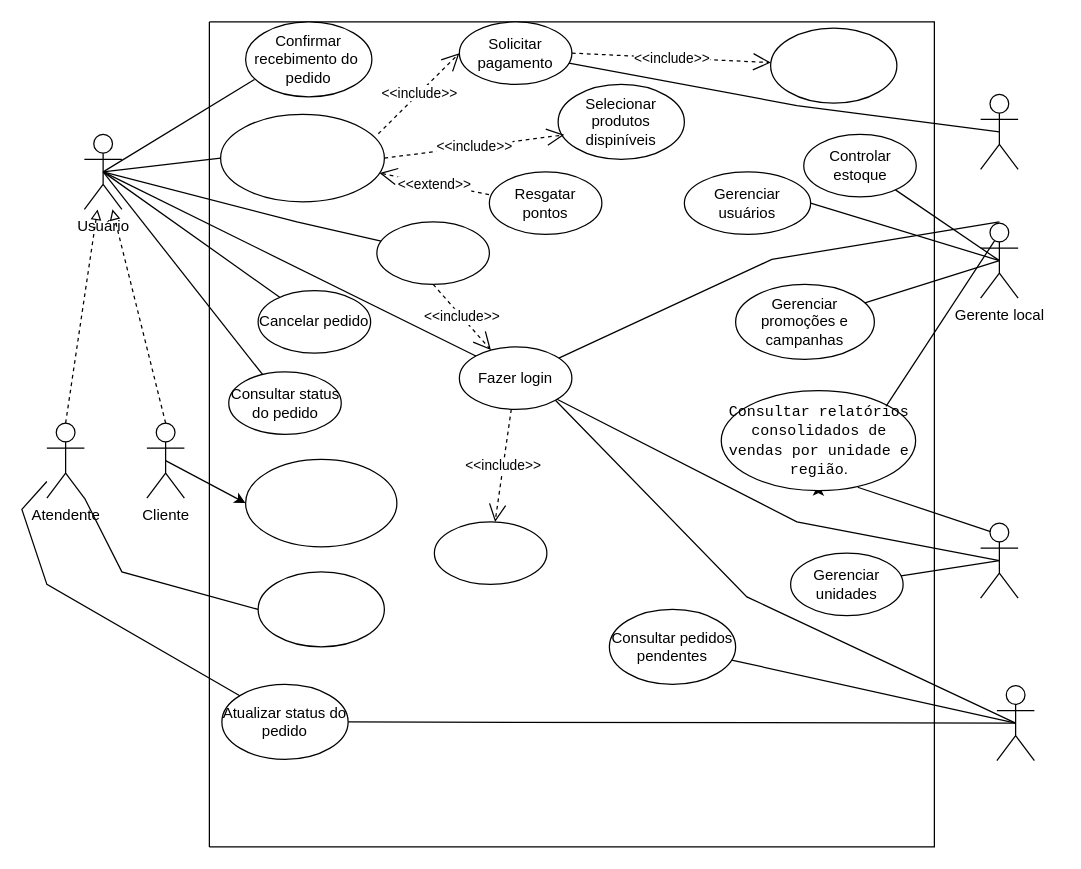
This 1081x869 diagram has some shape labels left out. Here are the shapes that lost their labels. From the top down, the centre of each, then its label:
(x=833, y=65): Registrar resultado de pagamento
(x=998, y=131): Gatway de Pagamento
(x=301, y=157): Criar pedido (APP/TOTEM/PICKUP /WEB/BALCÃO
(x=432, y=252): Visualizar cardápio
(x=320, y=502): Registrar consentimento para programa de fidelidade
(x=490, y=552): Verificar credenciais
(x=998, y=560): Gerente da matriz
(x=320, y=609): Disponibilizar pedido para preparação
(x=1015, y=722): Cozinheiro
